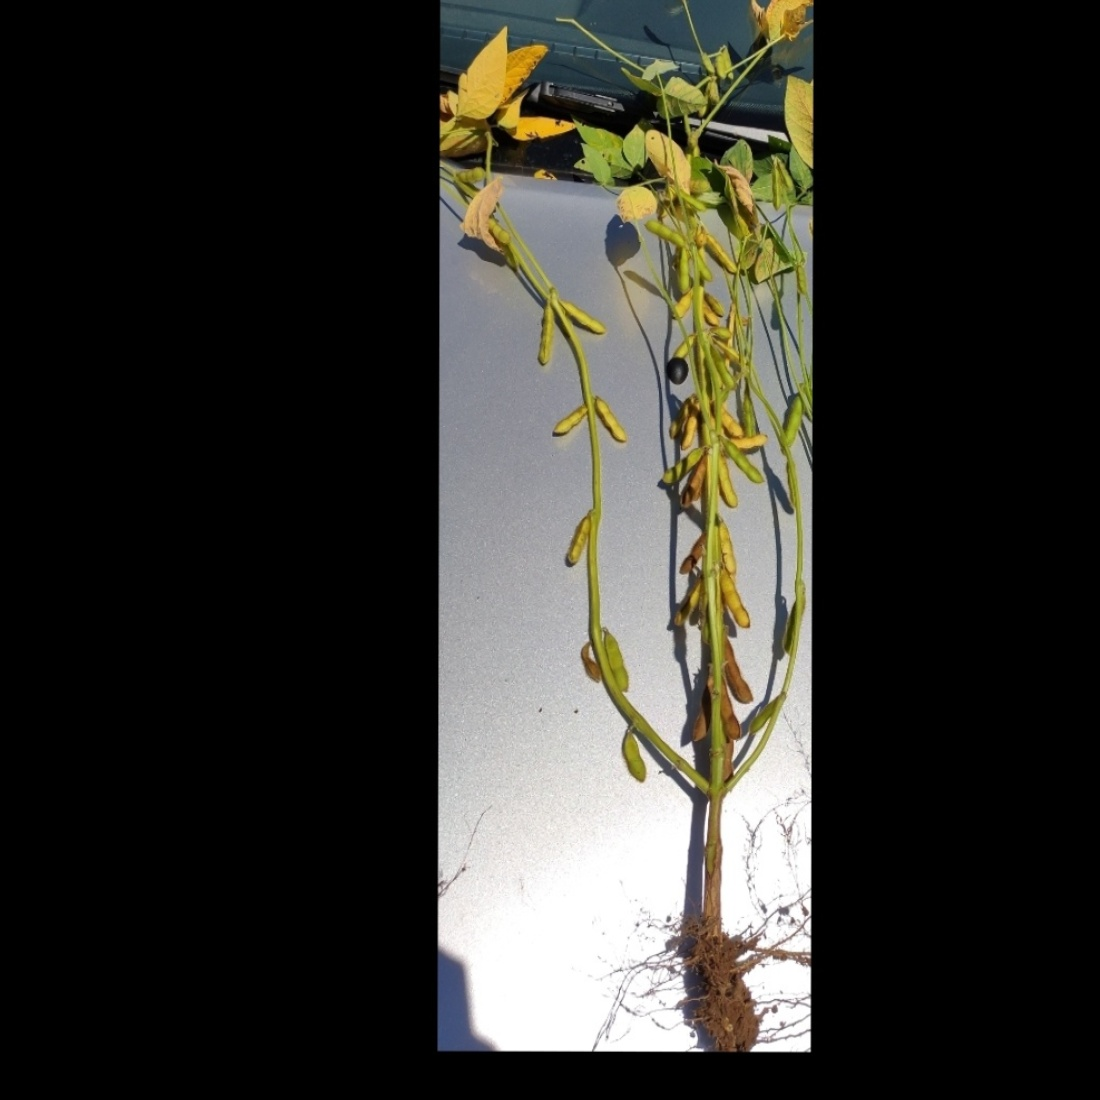pod: (714, 431, 765, 486), (720, 630, 753, 705), (552, 294, 608, 336), (657, 444, 705, 486), (704, 227, 740, 276), (720, 567, 749, 628), (604, 627, 631, 693), (592, 392, 628, 439), (563, 511, 591, 569), (533, 299, 556, 368), (621, 728, 648, 786), (719, 672, 740, 743), (708, 341, 736, 395), (642, 218, 689, 249), (747, 691, 778, 737), (715, 453, 738, 510), (782, 394, 803, 448), (719, 517, 737, 578), (552, 405, 587, 436), (714, 403, 744, 439), (681, 400, 702, 451), (454, 162, 486, 187), (485, 221, 514, 247), (767, 166, 783, 213), (677, 248, 692, 296), (797, 263, 807, 298)
soy: (454, 0, 810, 1018)
